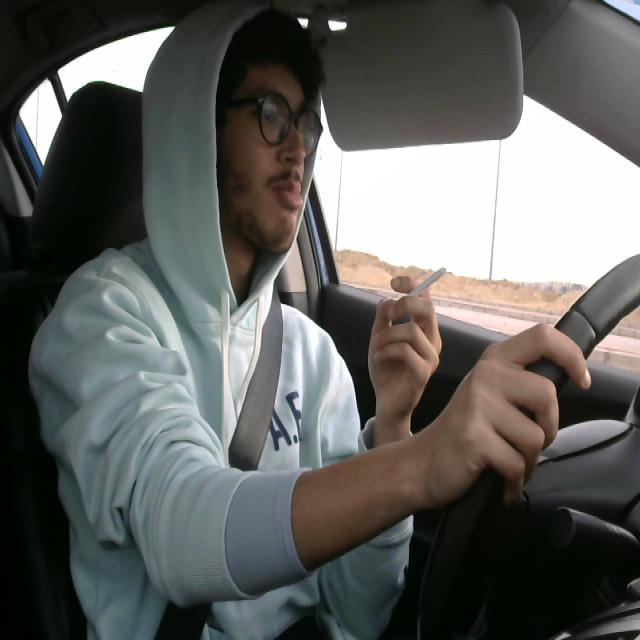smoking: (396, 264, 446, 314)
